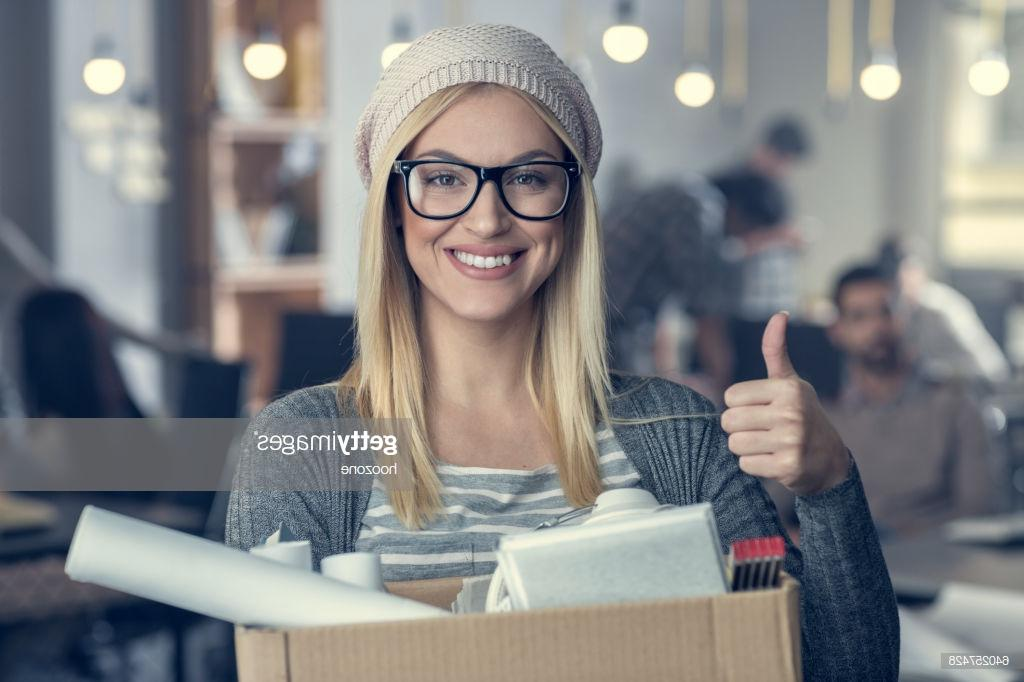thumbsup: (720, 309, 813, 478)
